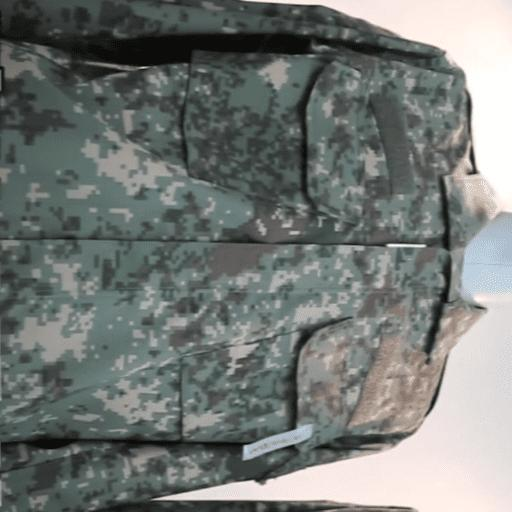korea army: (0, 0, 499, 510)
